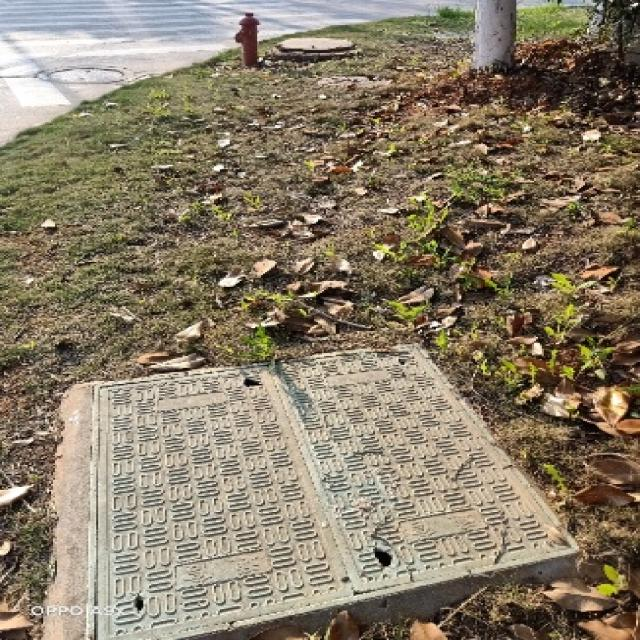Good: (67, 361, 598, 640)
